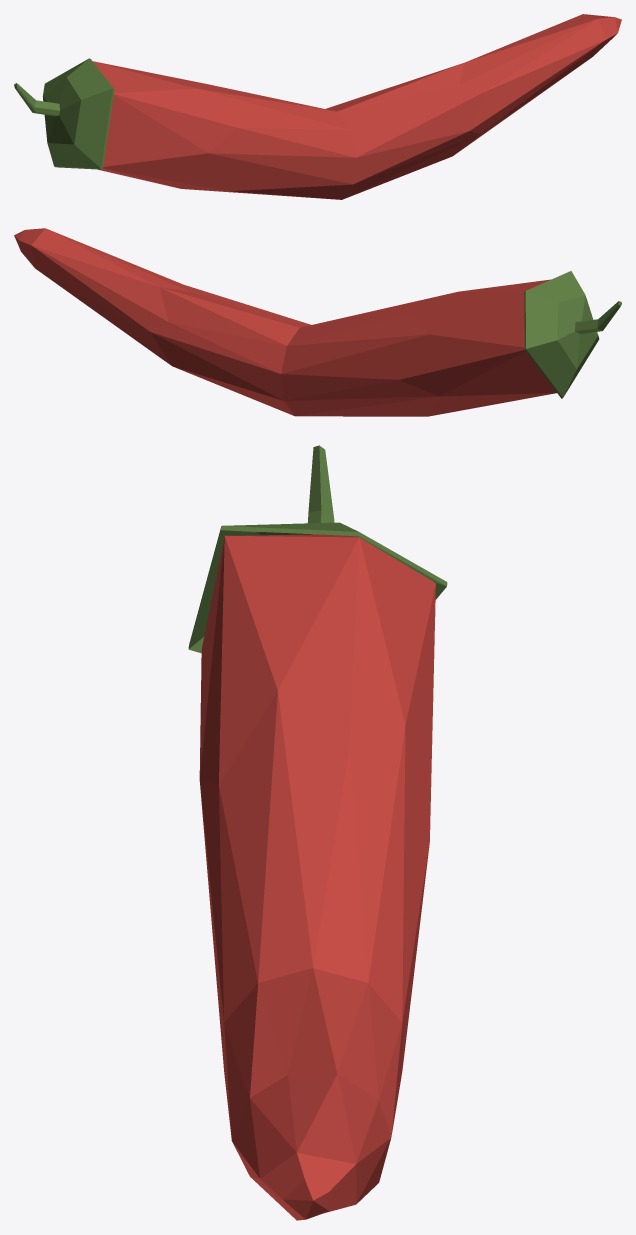
File: Chili_01.fbx
3 views of the same model, one above another, from view 1: azimuth 30°, elevation 25°; view 2: azimuth 150°, elevation 25°; view 3: azimuth 270°, elevation 25° (orthographic). The views are drawn at different scales.
Visible parts, largest first — view 1: Chili_01; view 2: Chili_01; view 3: Chili_01.
Part boxes in pixels (bbox=[...]): Chili_01: bbox=[14, 14, 621, 199]; Chili_01: bbox=[14, 228, 621, 416]; Chili_01: bbox=[188, 445, 447, 1220].
Bounding box in the file's own units: 17.84 × 5.34 × 3.3.
